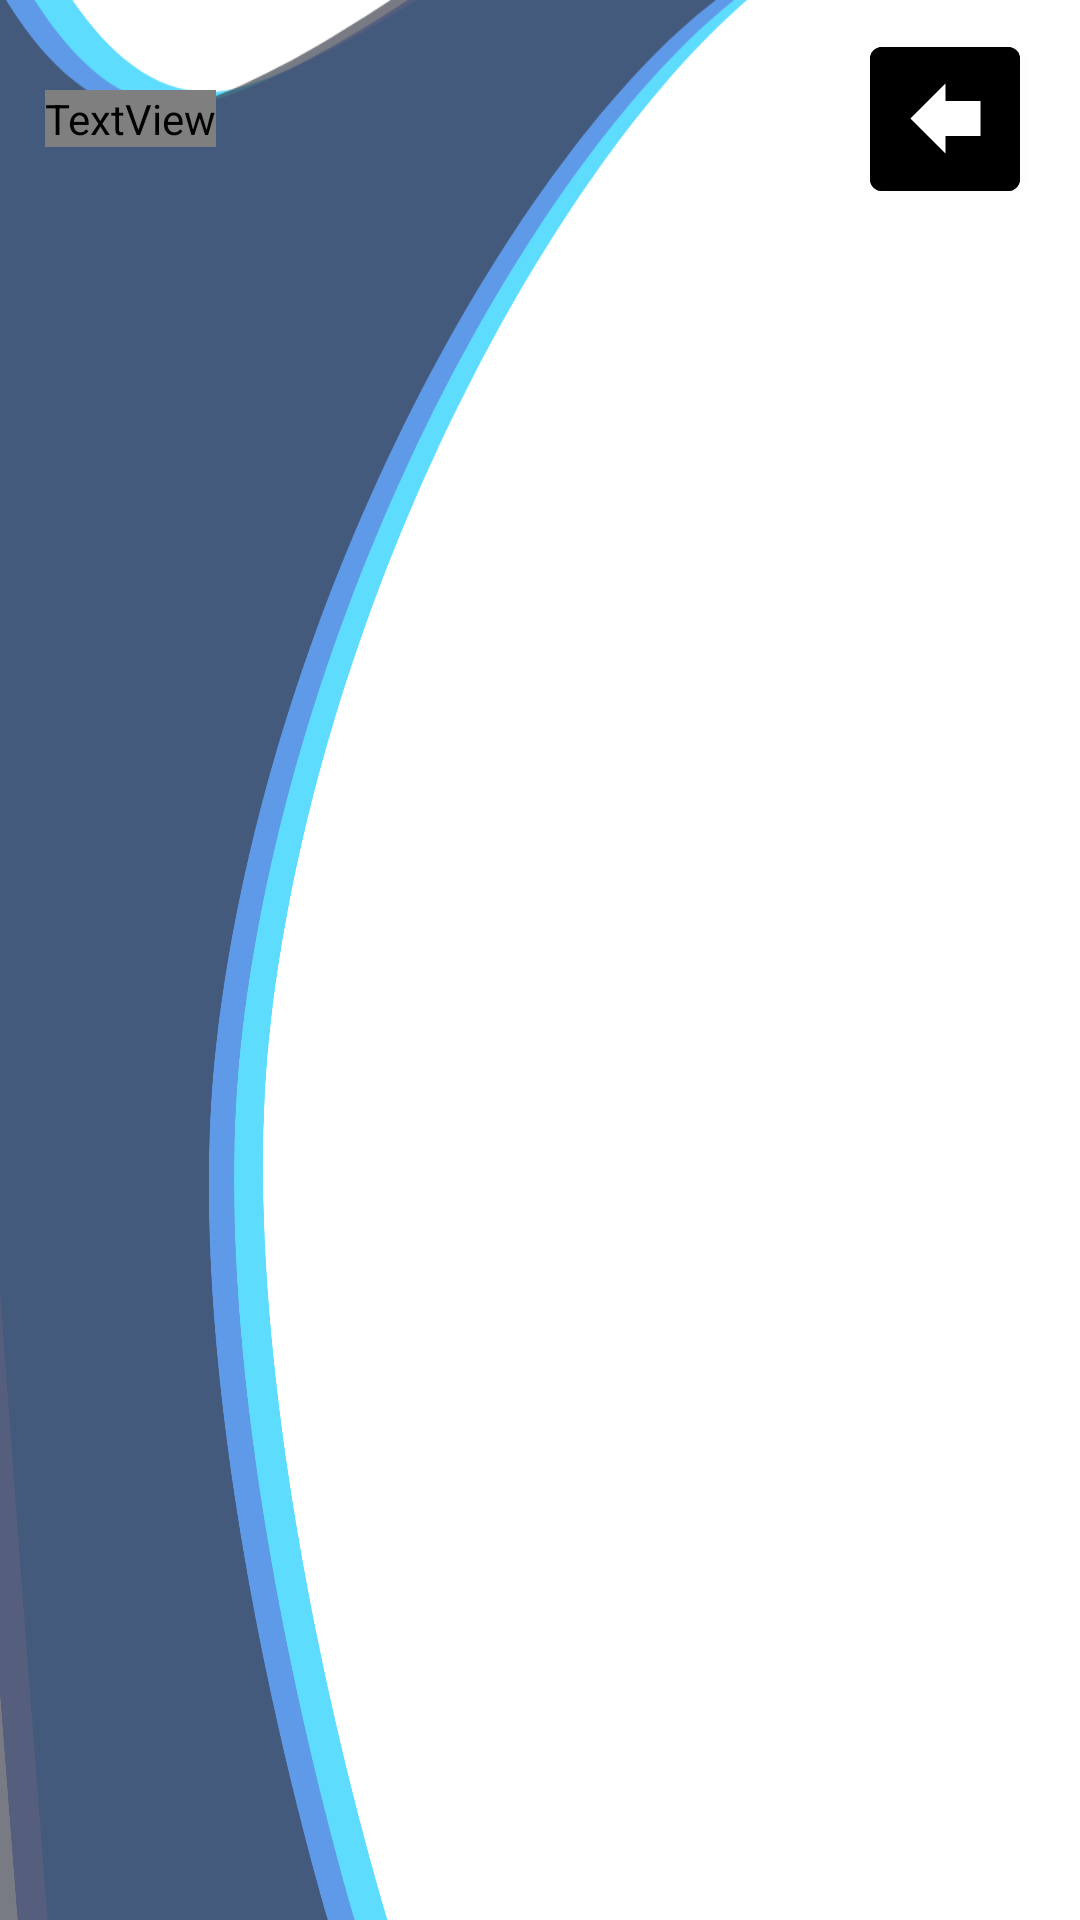

Locate icon controls on the screen. Image size 1080*1920, boxes as (x1, y1, x2, y2).
back: (870, 47, 1020, 191)
